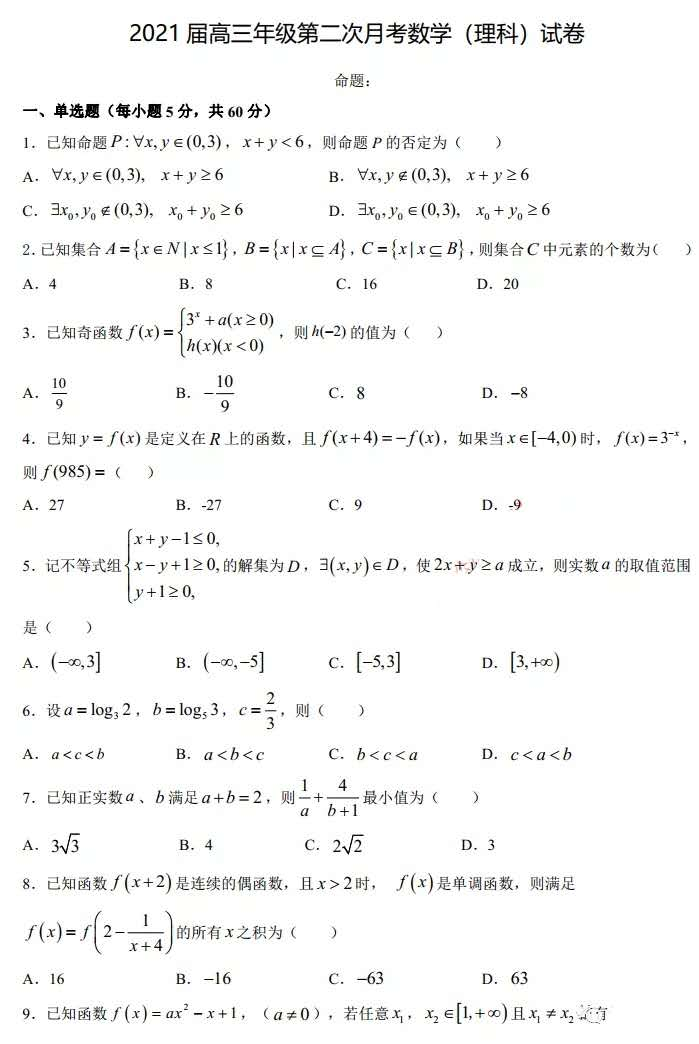Math: (16, 521, 694, 667), (9, 305, 539, 408), (18, 136, 556, 223), (24, 871, 585, 953), (19, 689, 579, 766), (45, 235, 655, 262), (49, 779, 430, 822), (46, 1004, 581, 1025), (407, 18, 588, 47), (50, 102, 102, 121)
